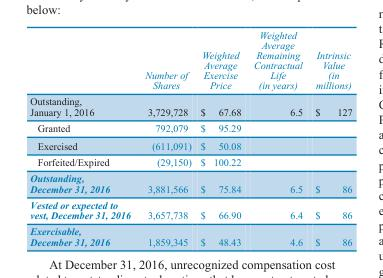table: (29, 28, 351, 246)
table column: (29, 28, 137, 246), (246, 28, 308, 246), (137, 28, 195, 246), (195, 28, 246, 246), (308, 28, 351, 246)
table column header: (29, 28, 351, 92)
table row: (29, 28, 351, 92), (29, 92, 351, 119), (29, 169, 351, 196), (29, 196, 351, 222), (29, 222, 351, 246), (29, 119, 351, 136), (29, 136, 351, 153), (29, 153, 351, 169)
